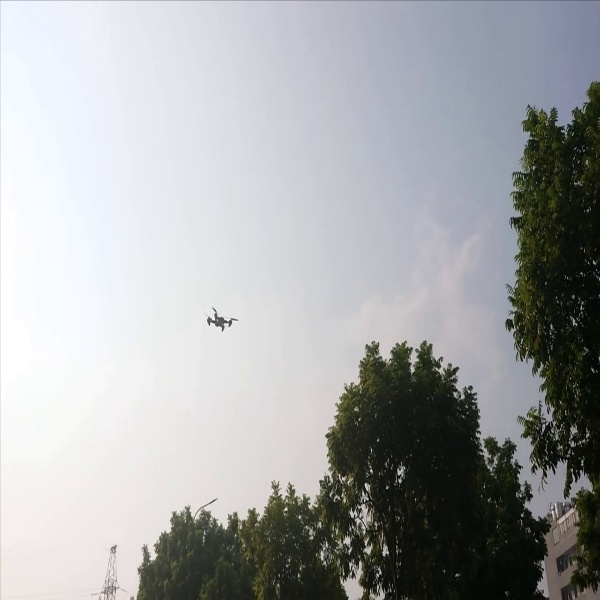drone: (197, 299, 243, 340)
